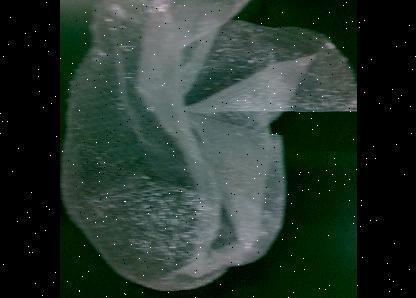Others: (59, 0, 356, 291)
